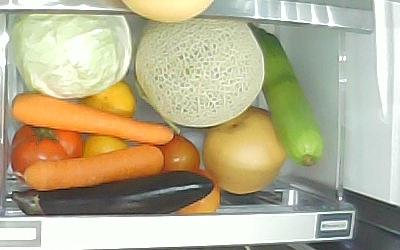cabbage: (12, 14, 132, 99)
carrot: (10, 92, 174, 144), (23, 144, 165, 190)
eggplant: (11, 170, 215, 215)
melon: (134, 18, 266, 127)
pear: (202, 105, 287, 195)
prune: (157, 134, 200, 173), (182, 171, 220, 214)
tangerine: (80, 82, 136, 118), (82, 135, 127, 155)
tomato: (11, 126, 85, 174)
zucchini: (246, 23, 325, 168)
